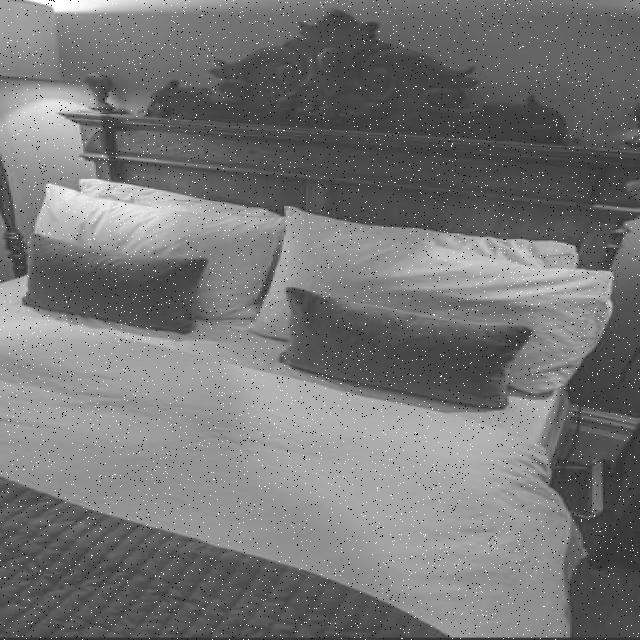bed: (0, 175, 610, 639)
